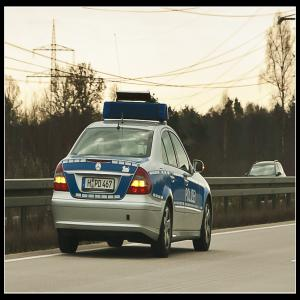Vehicle-registration-plate: (81, 178, 116, 193)
